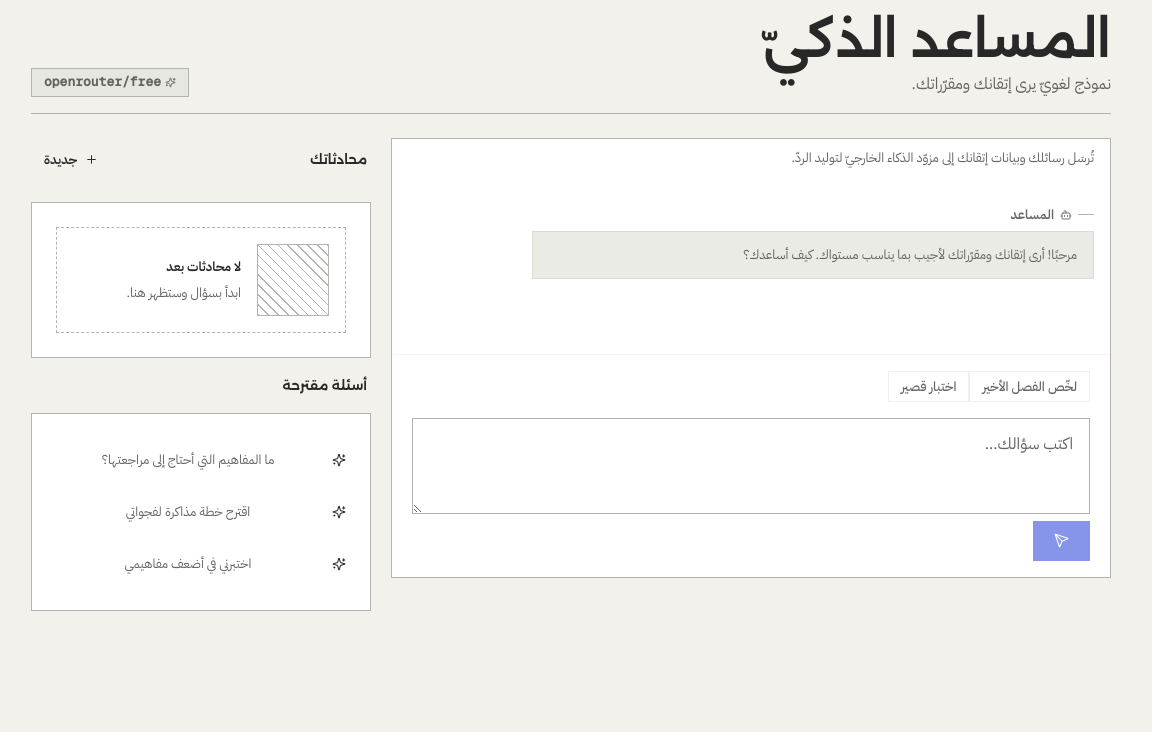
Test: R305-A7 — the composer tells the truth › send stays disabled while empty or in-flight (honest button)
Later steps or results of the test are not shown.
Expected: the button named "إرسال" is disabled, [1033, 520, 1090, 560]
Type "سؤال" into the text box named "اكتب سؤالك للمساعد" at (751, 466), box [412, 418, 1090, 514]
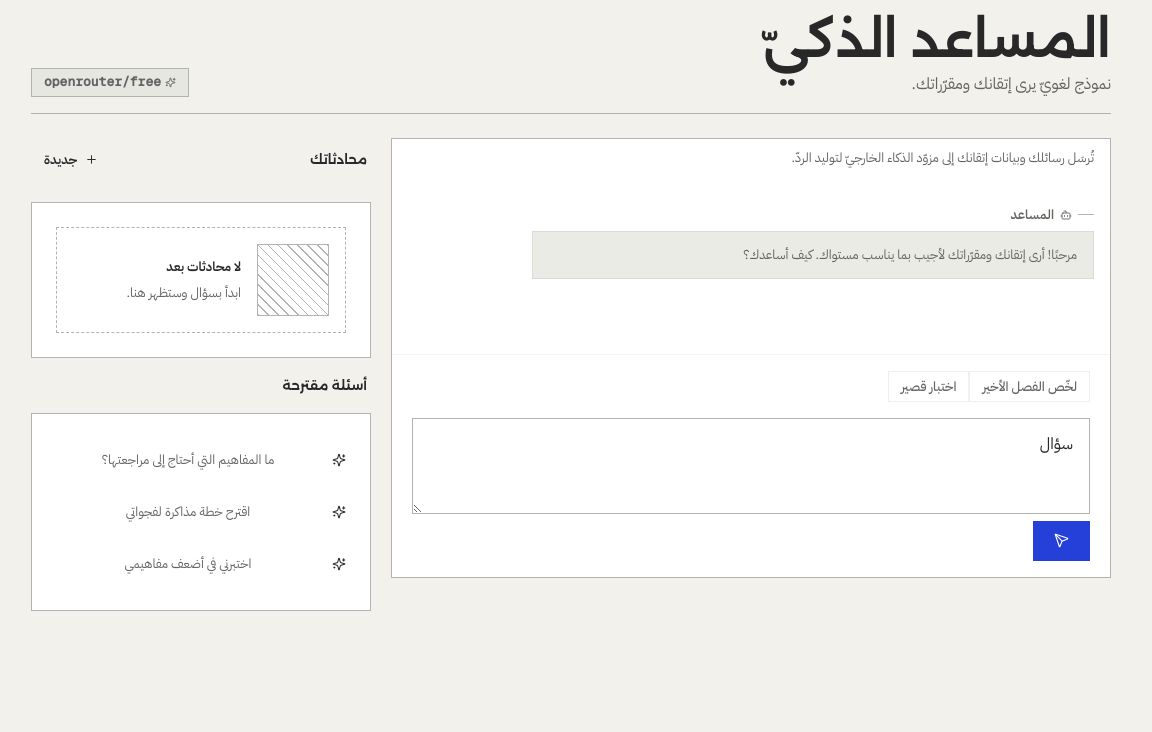
Expected: the button named "إرسال" is enabled, [1033, 520, 1090, 560]
